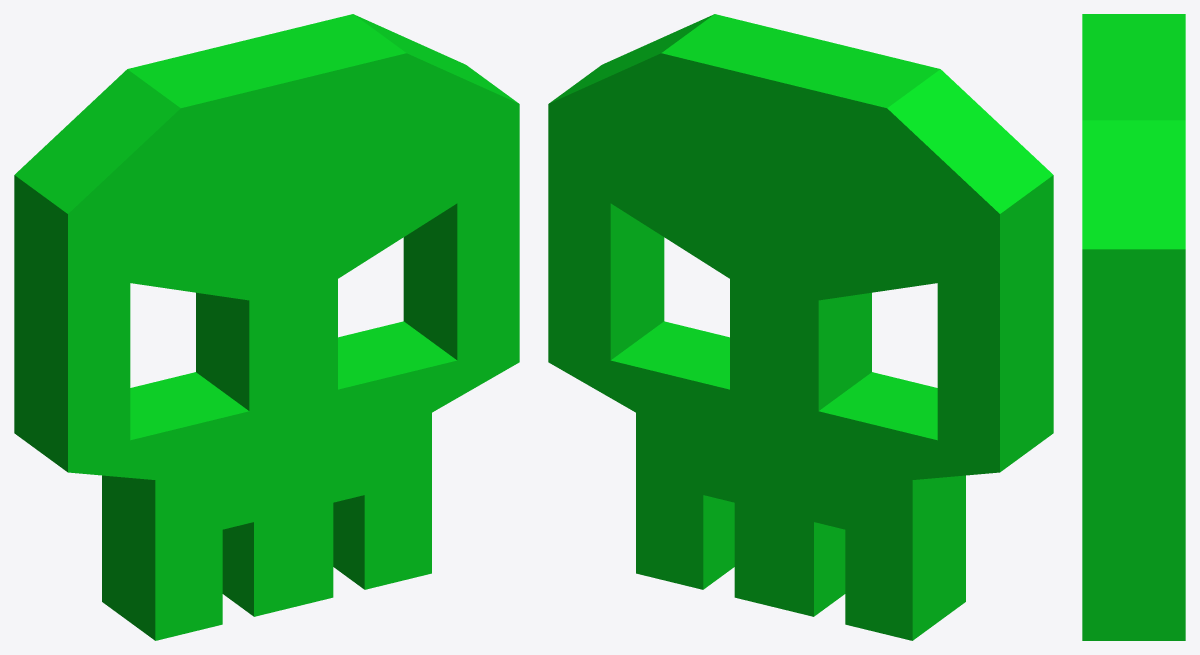
File: Danger_sign.fbx
3 renders of one model, left to right at view 1: azimuth 30°, elevation 25°; view 2: azimuth 150°, elevation 25°; view 3: azimuth 270°, elevation 25°, orthographic. The views are drawn at different scales.
Visible parts, largest first — view 1: Danger_sign; view 2: Danger_sign; view 3: Danger_sign.
Boxes of the visible parts, x1,y1,x2,y2 form: Danger_sign: (14,14,519,640); Danger_sign: (548,14,1053,640); Danger_sign: (1082,14,1185,640).
Bounding box in the file's own units: 1497 × 1667 × 307.
